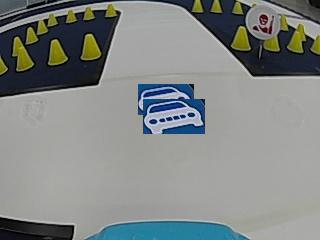evil: (245, 4, 280, 39)
